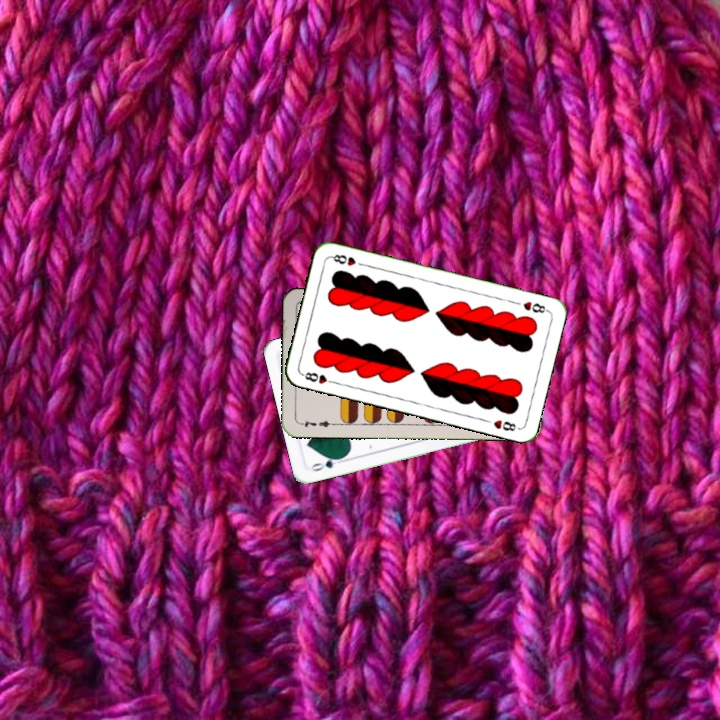E7: (296, 416, 337, 430)
GO: (306, 453, 347, 474)
H8: (298, 368, 338, 386), (519, 297, 551, 316)
